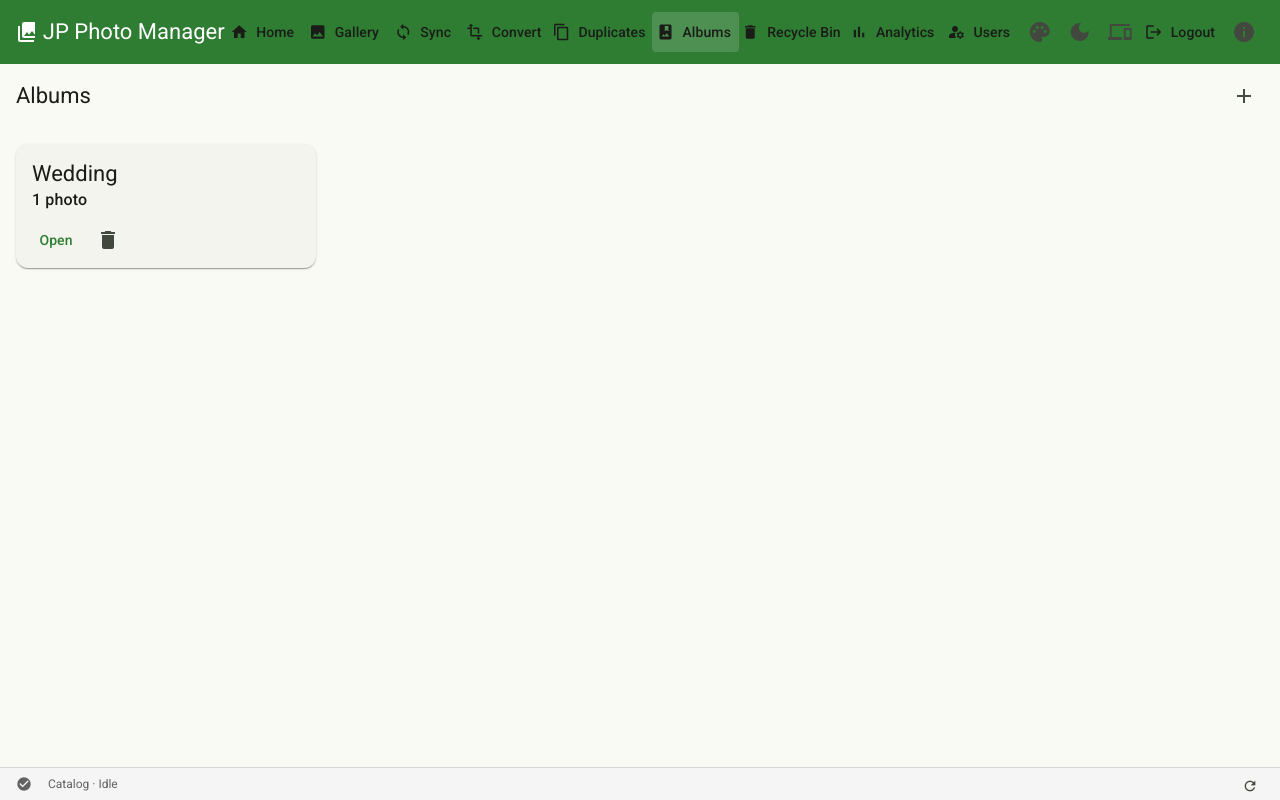
Test case: Albums › albumDetailPage_opened_assetsAreRendered
What coordinates should you click on to do the following:
click the link "Open"
I would click on:
 (56, 240)
Its box is [24,220,88,260].
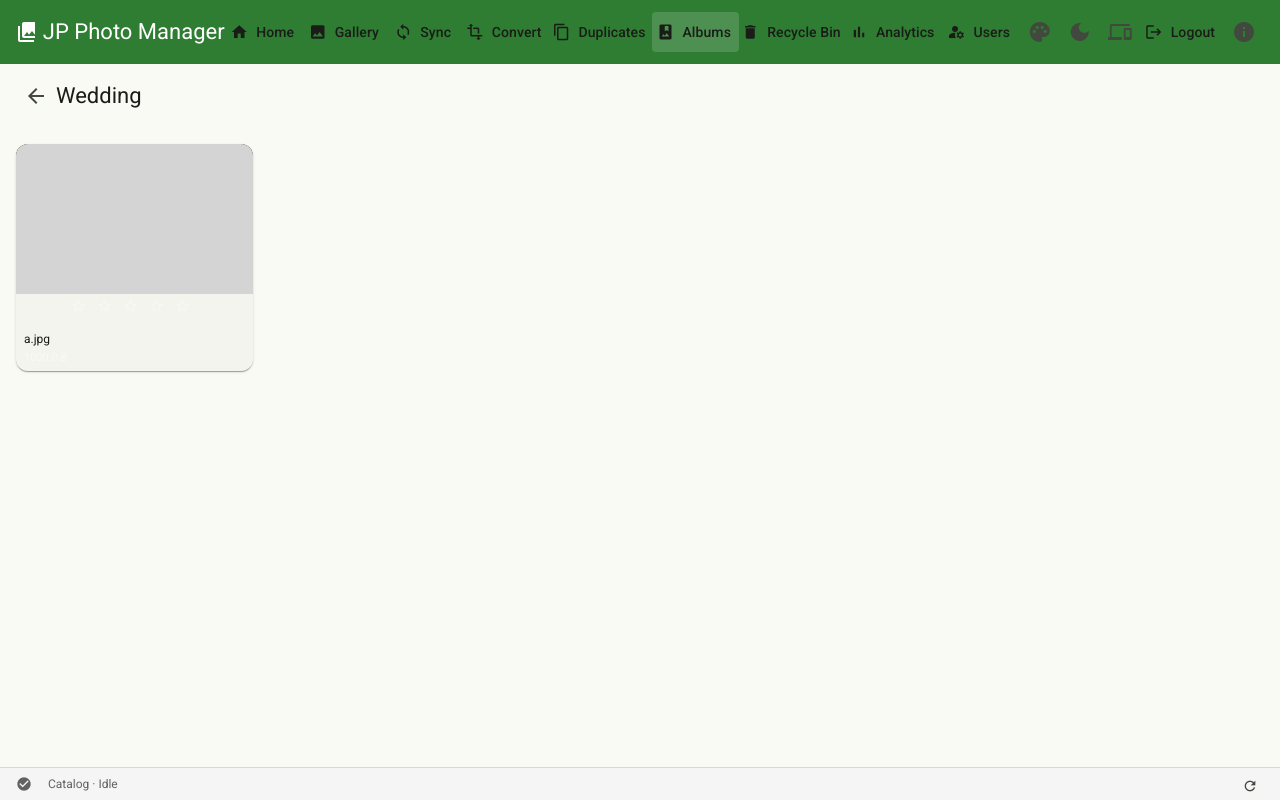
Now the text "Wedding" is shown, box [56,82,142,110]
